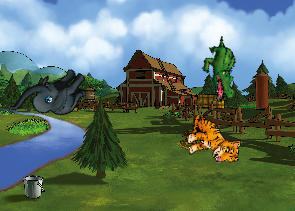crocodile: (192, 35, 250, 104)
elephant: (8, 50, 94, 139)
tiger: (184, 113, 243, 165)
